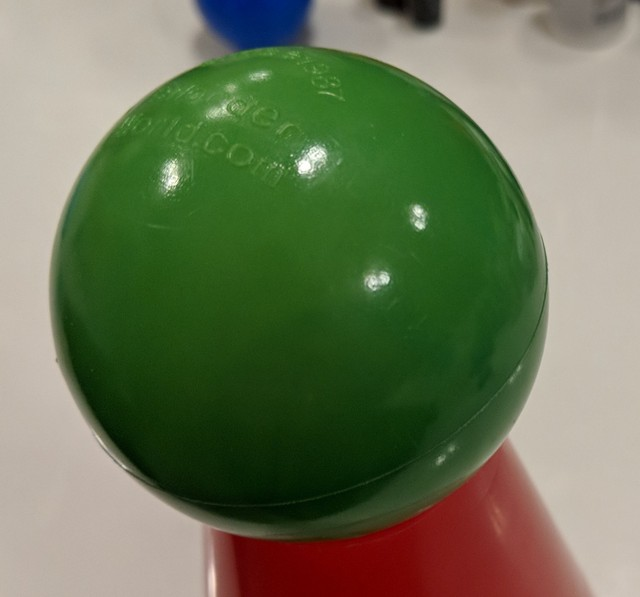Ball: (46, 40, 548, 537)
